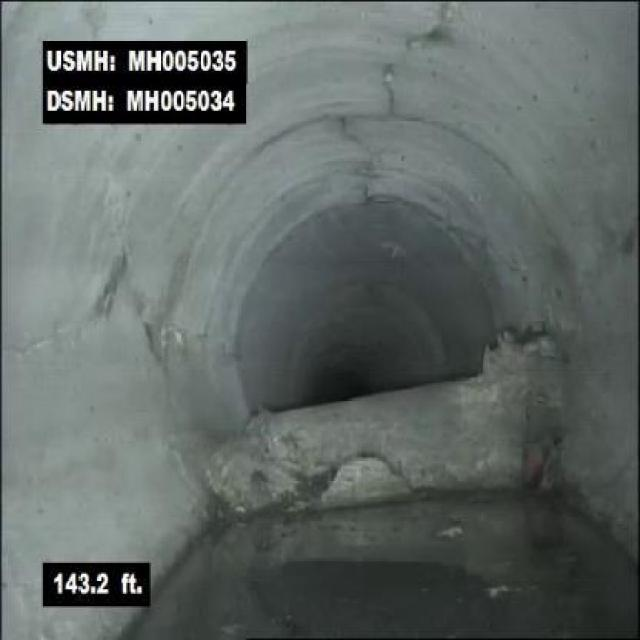Crack: (371, 0, 480, 117), (120, 248, 171, 378), (5, 314, 84, 363), (340, 117, 382, 178)
Utility intrusion: (232, 361, 572, 517)
